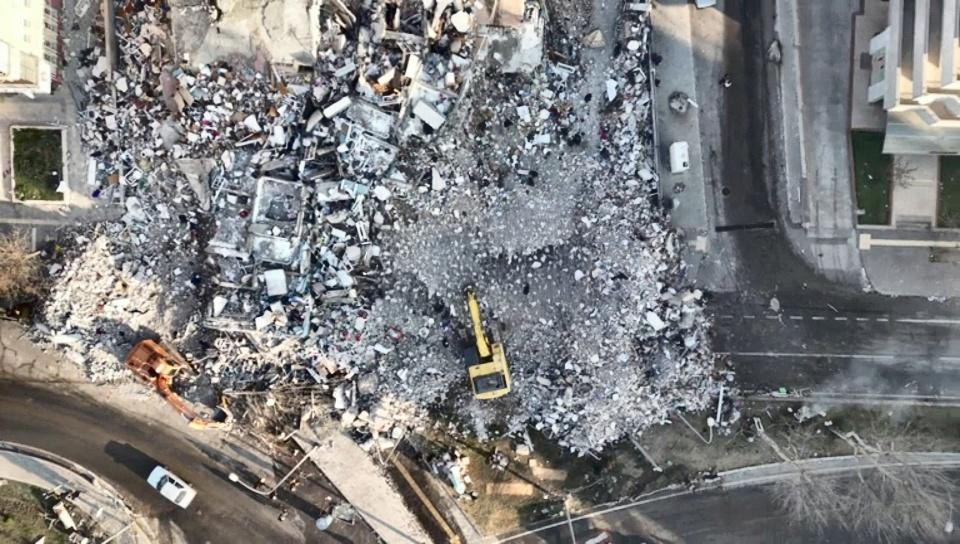kapali: (246, 291, 796, 392)
